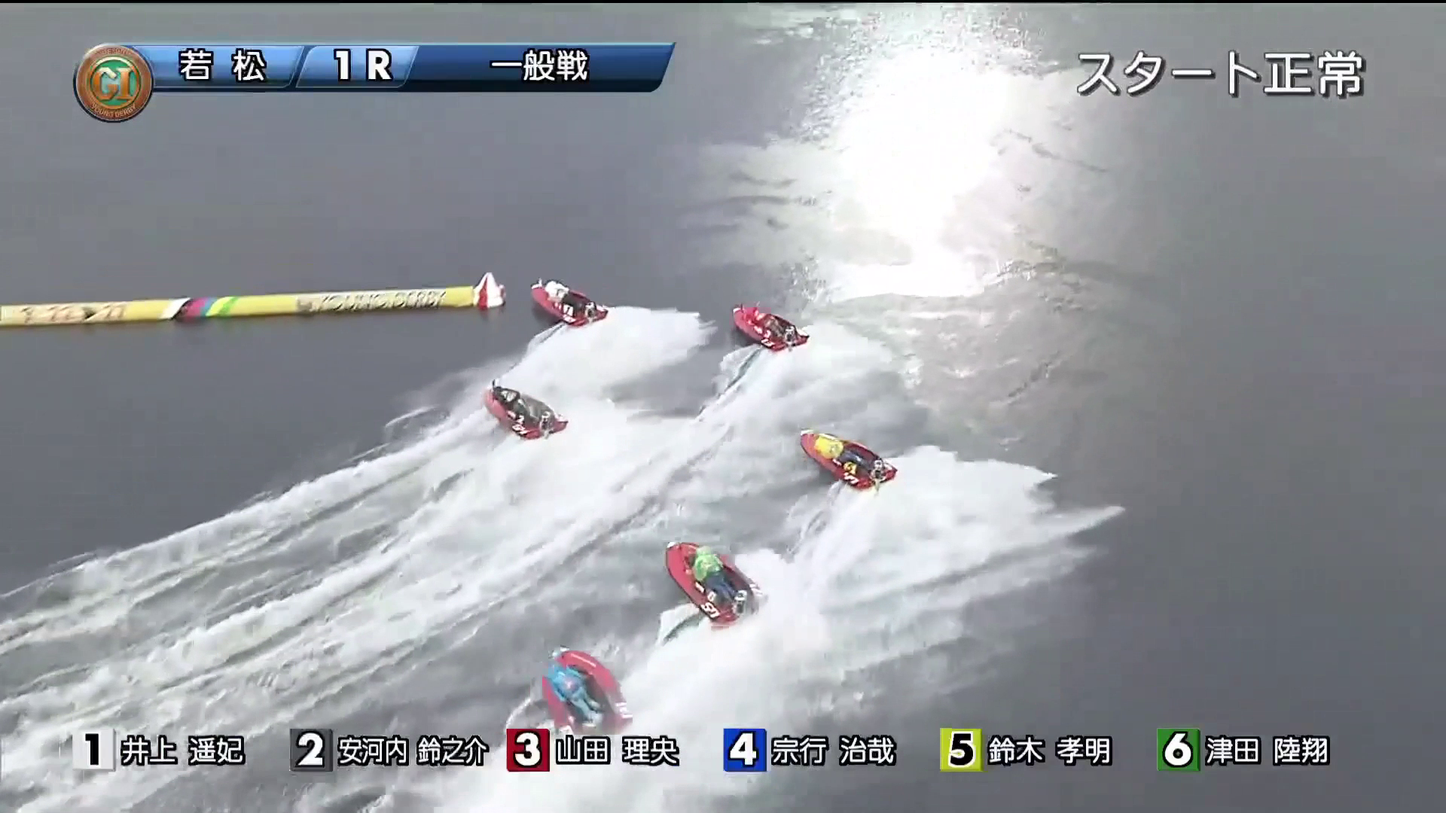１号艇: (521, 283, 592, 336)
２号艇: (460, 377, 588, 437)
３号艇: (714, 303, 811, 350)
４号艇: (684, 536, 818, 601)
５号艇: (521, 671, 645, 726)
６号艇: (793, 427, 892, 484)
